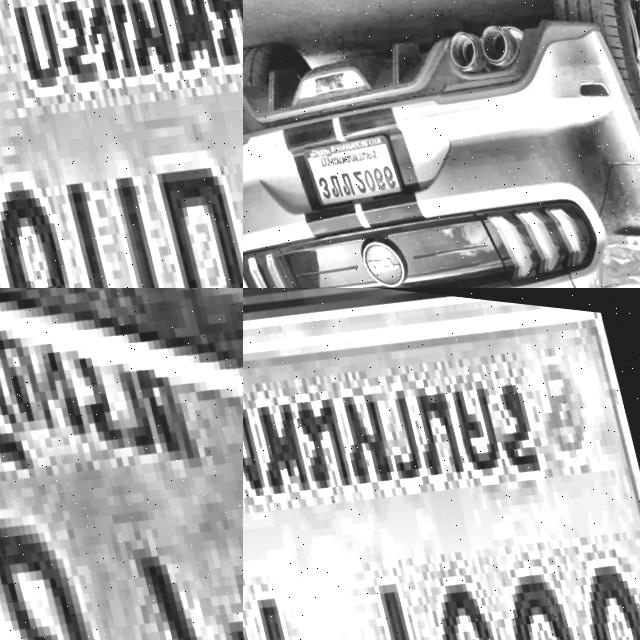license-plate: (243, 288, 640, 640), (0, 288, 243, 640), (0, 0, 243, 288), (297, 117, 408, 218)
